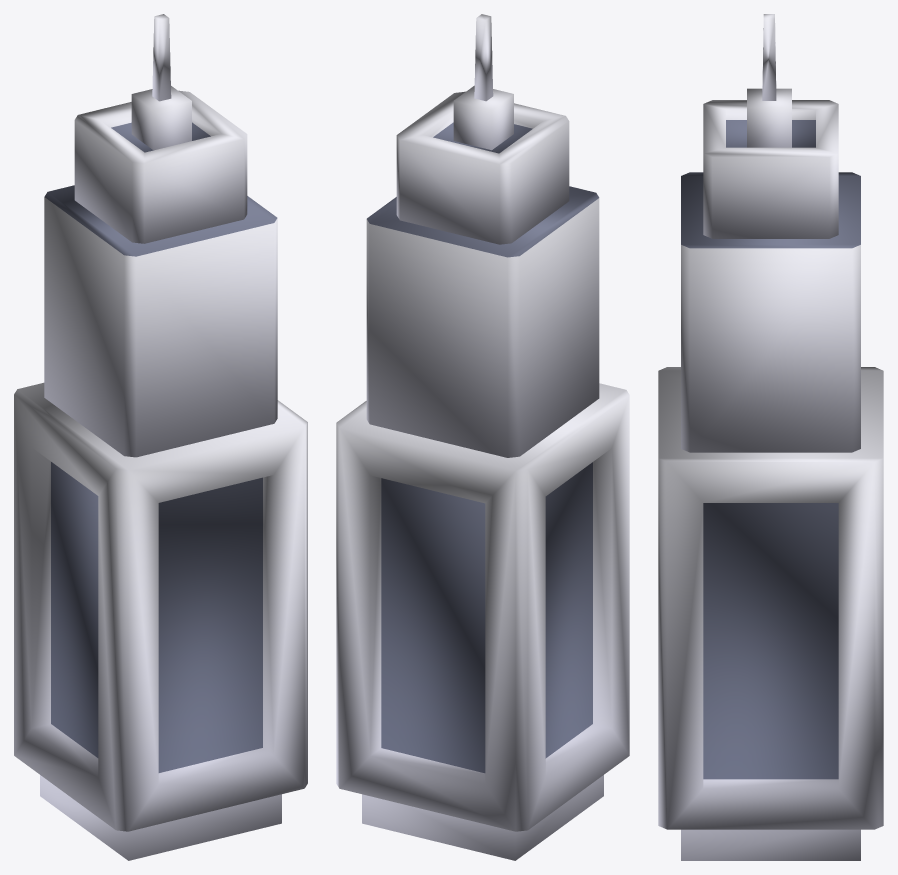
The model's file is low-detail-building-m_lev1.glb.
3 renders of one model, left to right at view 1: azimuth 30°, elevation 25°; view 2: azimuth 150°, elevation 25°; view 3: azimuth 270°, elevation 25°, orthographic.
Parts seen in each view (by area): view 1: low-detail-building-m_lev1; view 2: low-detail-building-m_lev1; view 3: low-detail-building-m_lev1.
Boxes of the visible parts, box(x1,y1,x2,y2) form: low-detail-building-m_lev1: box(14, 14, 307, 860); low-detail-building-m_lev1: box(336, 14, 629, 860); low-detail-building-m_lev1: box(658, 14, 883, 860).
Size of the model in its own units: 0.5 by 1.98 by 0.5.
1 material, 1 textured.
